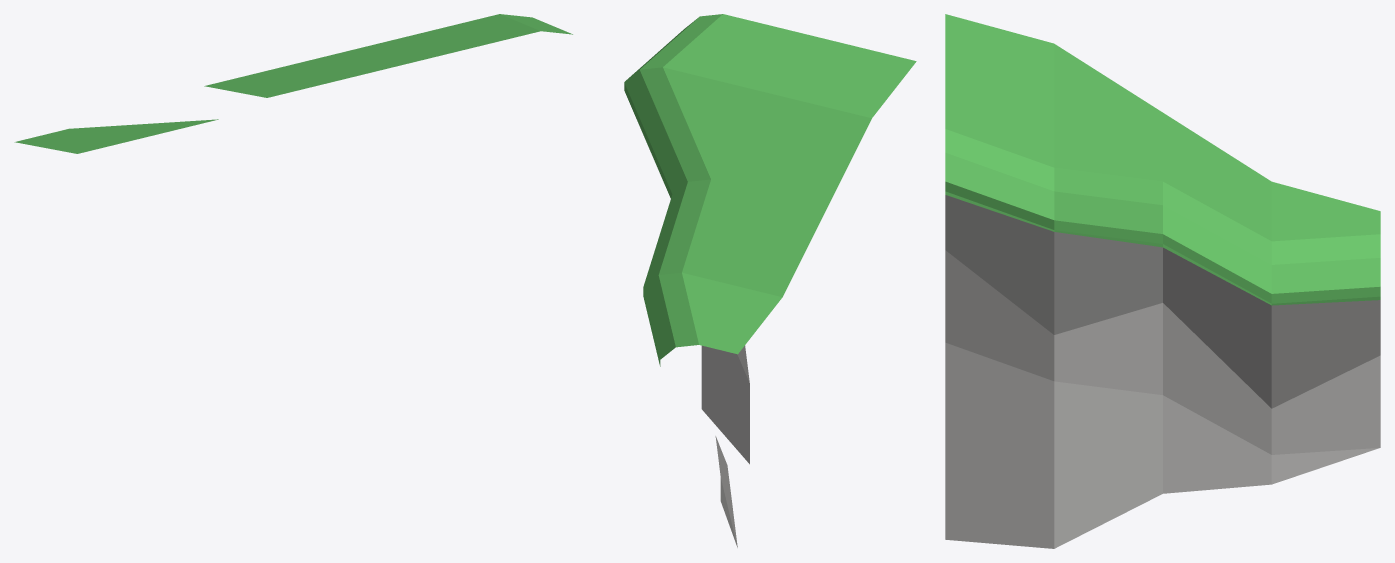
File: Cliff_Terrain_Waterfall_Top.glb
3 views of the same model, side by side, from view 1: azimuth 30°, elevation 25°; view 2: azimuth 150°, elevation 25°; view 3: azimuth 270°, elevation 25° (orthographic). The views are drawn at different scales.
Visible parts, largest first — view 1: Cliff_Terrain_Waterfall_Top; view 2: Cliff_Terrain_Waterfall_Top; view 3: Cliff_Terrain_Waterfall_Top.
Part boxes in pixels (x1,y1,x2,y2): Cliff_Terrain_Waterfall_Top: [14, 14, 572, 153]; Cliff_Terrain_Waterfall_Top: [624, 14, 916, 547]; Cliff_Terrain_Waterfall_Top: [945, 14, 1380, 548].
Size of the model in its own units: 1.6 by 2.2 by 2.
